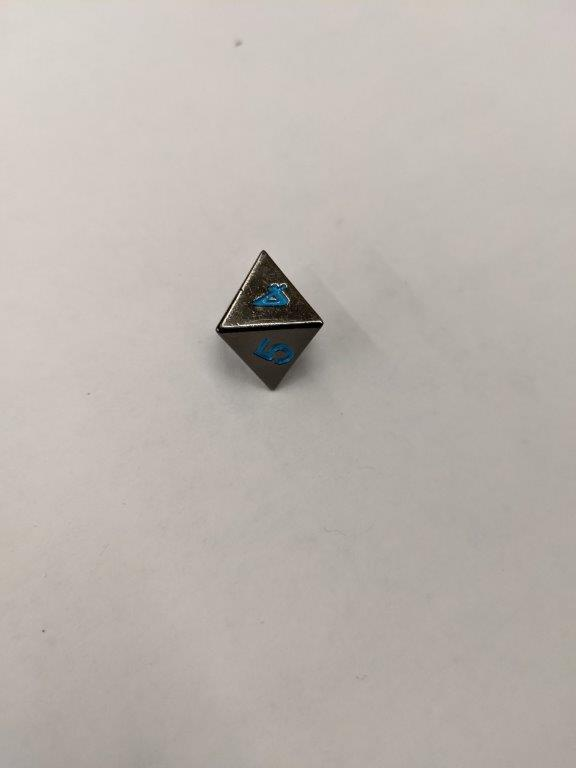d8-4: (212, 249, 327, 396)
